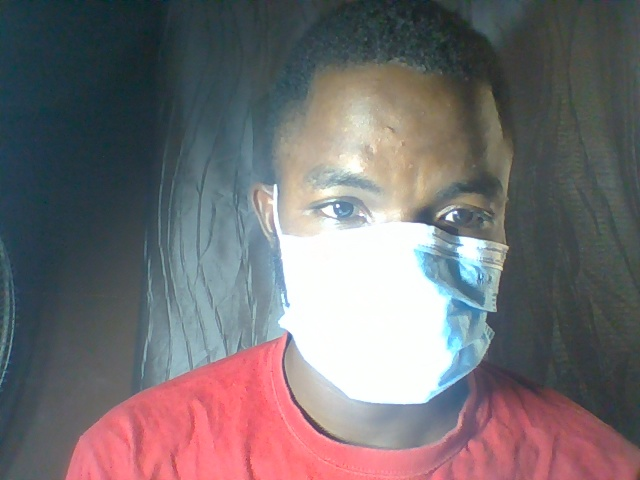MaskOn: (246, 8, 537, 415)
